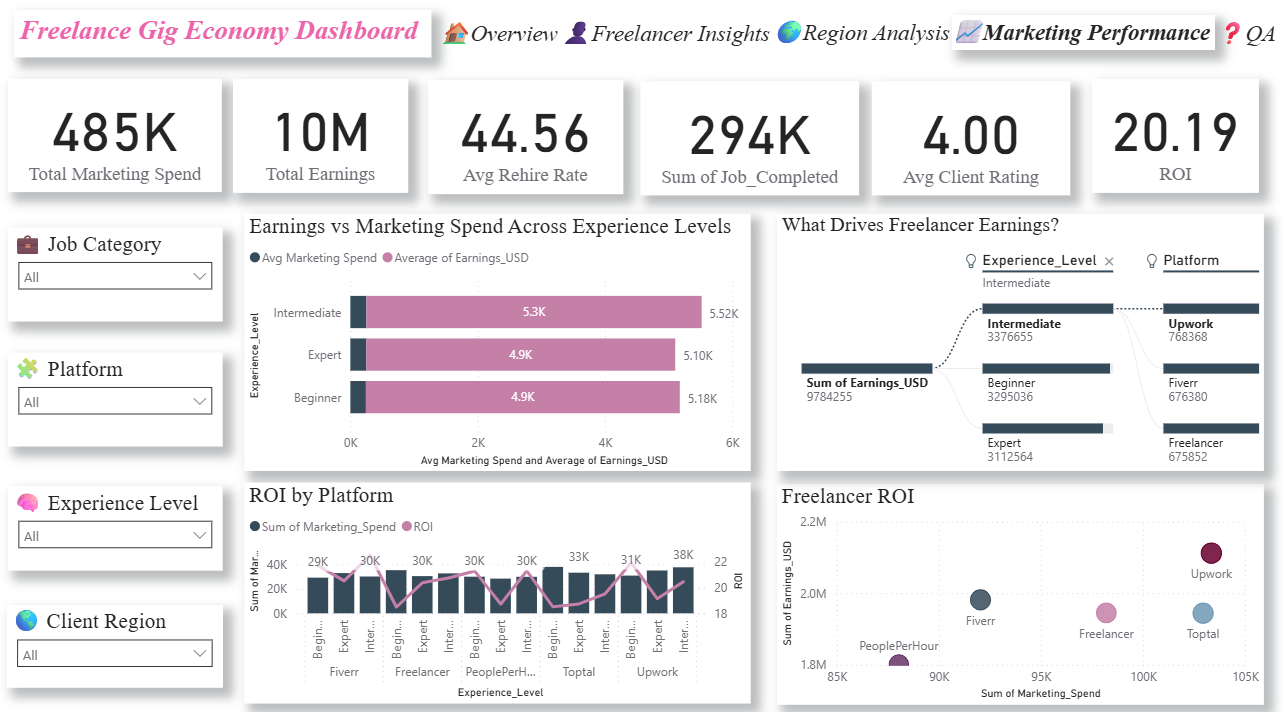

What the dashboard file says about the page in this screenshot:
{"tool":"powerbi","page":{"name":"Marketing Performance","canvas":[1280,720],"ordinal":3},"visuals":[{"type":"card","fields":{"Values":["freelancer_earnings_bd.Total Marketing Spend"]},"box":[10,88.6,212.9,112.9],"z":0},{"type":"card","fields":{"Values":["freelancer_earnings_bd.Total Earnings"]},"box":[233.9,88.3,174.2,113.2],"z":1000},{"type":"card","fields":{"Values":["freelancer_earnings_bd.Avg Rehire Rate"]},"box":[427.9,89.6,194.1,113.2],"z":2000},{"type":"card","fields":{"Values":["Sum(freelancer_earnings_bd.Job_Completed)"]},"box":[639.4,90.8,217.7,113.2],"z":3000},{"type":"card","fields":{"Values":["freelancer_earnings_bd.Avg Client Rating"]},"box":[869.5,90.8,197.8,113.2],"z":4000},{"type":"card","fields":{"Values":["freelancer_earnings_bd.ROI"]},"box":[1088.5,88.3,166.7,113.2],"z":5000},{"type":"scatterChart","title":"Freelancer ROI","fields":{"X":["Sum(freelancer_earnings_bd.Marketing_Spend)"],"Y":["Sum(freelancer_earnings_bd.Earnings_USD)"],"Size":["Sum(freelancer_earnings_bd.Job_Completed)"],"Series":["freelancer_earnings_bd.Platform"]},"box":[775,491.4,485.1,220.2],"z":6000},{"type":"decompositionTreeVisual","title":"What Drives Freelancer Earnings?","fields":{"Analyze":["Sum(freelancer_earnings_bd.Earnings_USD)"],"ExplainBy":["freelancer_earnings_bd.Experience_Level","freelancer_earnings_bd.Platform","freelancer_earnings_bd.Marketing_Spend","freelancer_earnings_bd.Client_Rating","freelancer_earnings_bd.Rehire_Rate"]},"box":[775,222.7,485.1,256.3],"z":7000},{"type":"barChart","title":"Earnings vs Marketing Spend Across Experience Levels","fields":{"Category":["freelancer_earnings_bd.Experience_Level","freelancer_earnings_bd.Platform"],"Y":["freelancer_earnings_bd.Avg Marketing Spend","Avg(freelancer_earnings_bd.Earnings_USD)"]},"box":[245.1,222.7,503.8,256.3],"z":8000},{"type":"lineStackedColumnComboChart","title":"ROI by Platform","fields":{"Category":["freelancer_earnings_bd.Platform","freelancer_earnings_bd.Experience_Level"],"Y":["Sum(freelancer_earnings_bd.Marketing_Spend)"],"Y2":["freelancer_earnings_bd.ROI"]},"box":[245.1,490.1,503.8,220.2],"z":9000},{"type":"slicer","title":"🧠 Experience Level","fields":{"Values":["freelancer_earnings_bd.Experience_Level"]},"box":[10.1,493.4,213.5,83.7],"z":10000},{"type":"slicer","title":"💼 Job Category","fields":{"Values":["freelancer_earnings_bd.Job_Category"]},"box":[10.1,236.6,213.5,93.8],"z":11000},{"type":"slicer","title":"🌎 Client Region","fields":{"Values":["freelancer_earnings_bd.Client_Region"]},"box":[8.7,611.7,215,82.2],"z":12000},{"type":"slicer","title":"🧩 Platform","fields":{"Values":["freelancer_earnings_bd.Platform"]},"box":[10.1,360.7,213.5,93.8],"z":13000},{"type":"actionButton","title":"🏠Overview","box":[438.6,26,121.2,36.1],"z":14000},{"type":"actionButton","title":"👤Freelancer Insights","box":[559.8,26,210.6,34.6],"z":15000},{"type":"actionButton","title":"🌍Region Analysis","box":[770.4,24.5,178.9,36.1],"z":16000},{"type":"actionButton","title":"📈Marketing Performance","box":[949.1,24.9,261.2,34.8],"z":17000},{"type":"actionButton","title":"❓QA","box":[1210.4,26.1,65.9,34.8],"z":18000},{"type":"textbox","box":[16.2,19.9,415.5,47.3],"z":19000}]}

Visuals, with their boxes in screenshot pixels (x1, y1, x2, y2), scaled from the page's 1280x720 canvas onto the 1285x712 screenshot:
card - freelancer_earnings_bd.Total Marketing Spend: rect(10, 88, 224, 199)
card - freelancer_earnings_bd.Total Earnings: rect(235, 87, 410, 199)
card - freelancer_earnings_bd.Avg Rehire Rate: rect(430, 89, 624, 201)
card - Sum(freelancer_earnings_bd.Job_Completed): rect(642, 90, 860, 202)
card - freelancer_earnings_bd.Avg Client Rating: rect(873, 90, 1071, 202)
card - freelancer_earnings_bd.ROI: rect(1093, 87, 1260, 199)
"Freelancer ROI" scatterChart: rect(778, 486, 1265, 704)
"What Drives Freelancer Earnings?" decompositionTreeVisual: rect(778, 220, 1265, 474)
"Earnings vs Marketing Spend Across Experience Levels" barChart: rect(246, 220, 752, 474)
"ROI by Platform" lineStackedColumnComboChart: rect(246, 485, 752, 702)
"🧠 Experience Level" slicer: rect(10, 488, 224, 571)
"💼 Job Category" slicer: rect(10, 234, 224, 327)
"🌎 Client Region" slicer: rect(9, 605, 225, 686)
"🧩 Platform" slicer: rect(10, 357, 224, 449)
"🏠Overview" actionButton: rect(440, 26, 562, 61)
"👤Freelancer Insights" actionButton: rect(562, 26, 773, 60)
"🌍Region Analysis" actionButton: rect(773, 24, 953, 60)
"📈Marketing Performance" actionButton: rect(953, 25, 1215, 59)
"❓QA" actionButton: rect(1215, 26, 1281, 60)
textbox: rect(16, 20, 433, 66)
